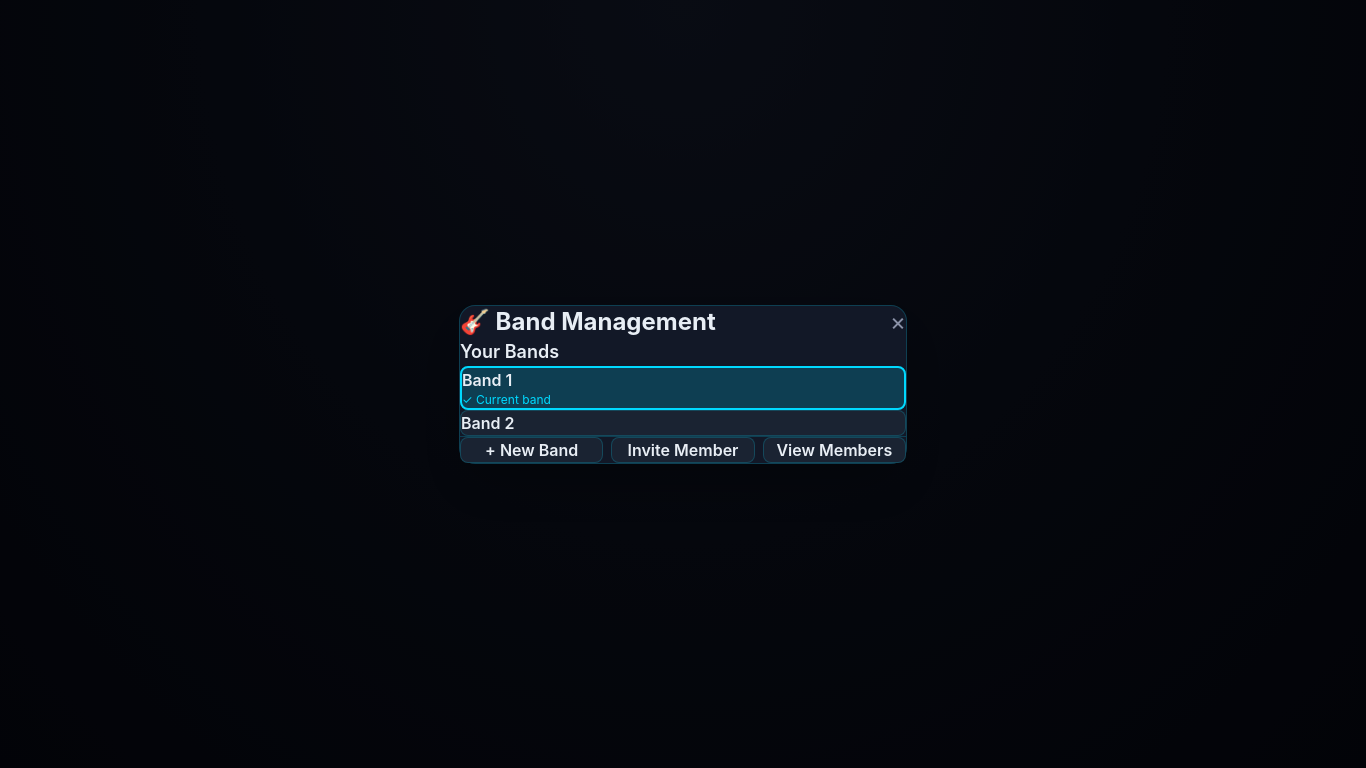
Test case: BandModal › should show create band form when clicking "New Band"
Click the button "+ New Band": (532, 450) x1=460 y1=436 x2=603 y2=462
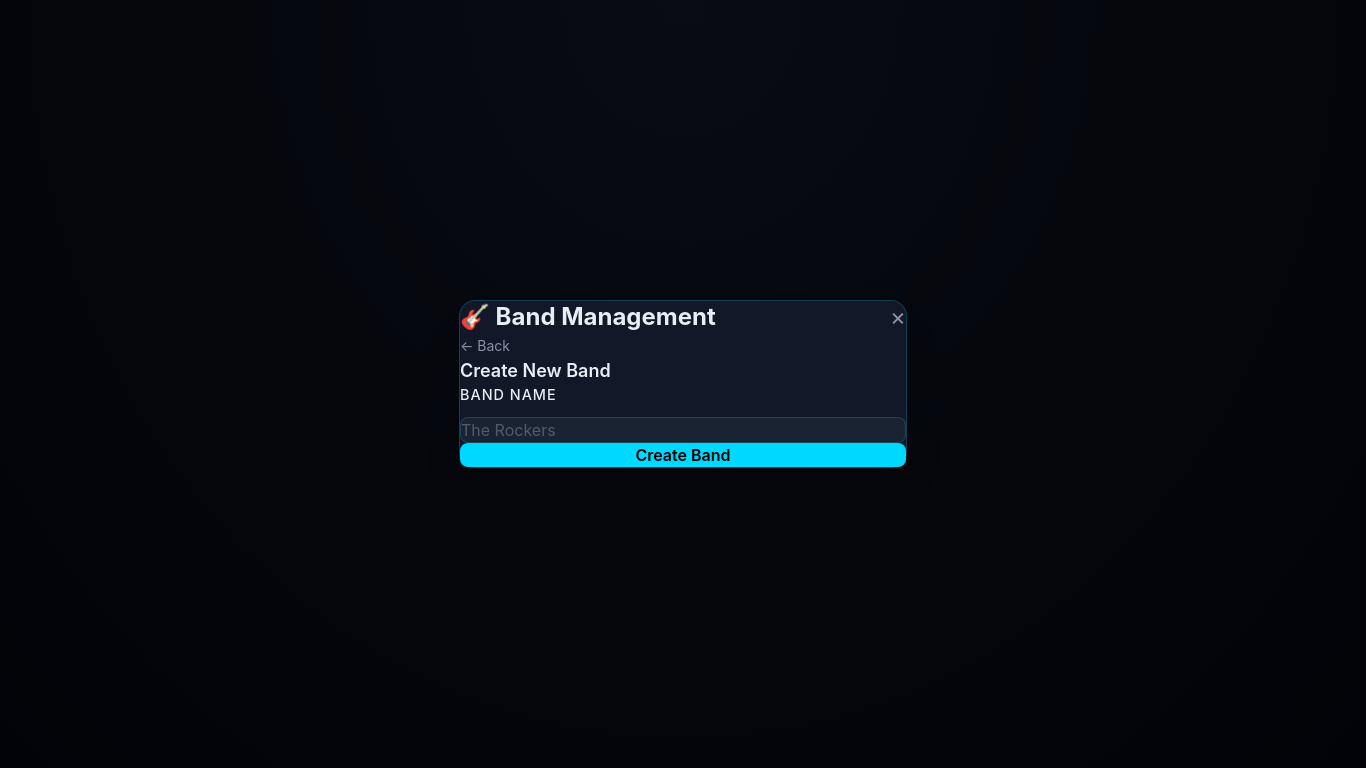
Check: the heading "Create New Band" is shown, box x1=460 y1=360 x2=611 y2=381
Check: the field with placeholder "The Rockers" is shown, box x1=460 y1=417 x2=906 y2=443
